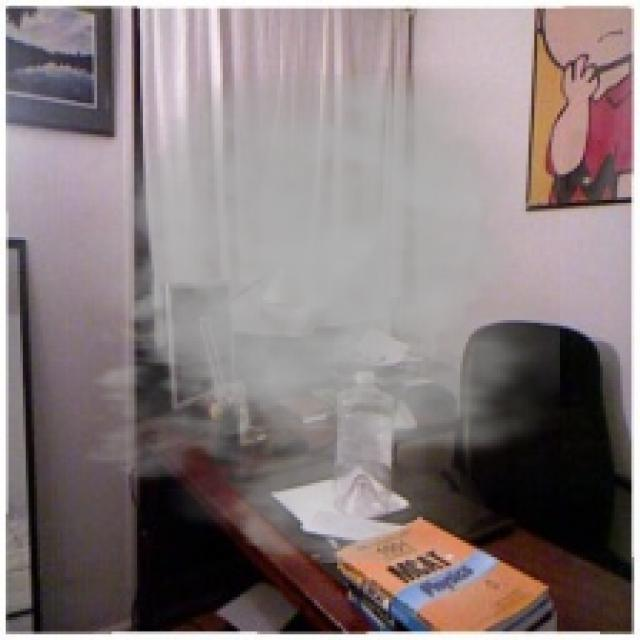Smoke: (34, 43, 560, 563)
